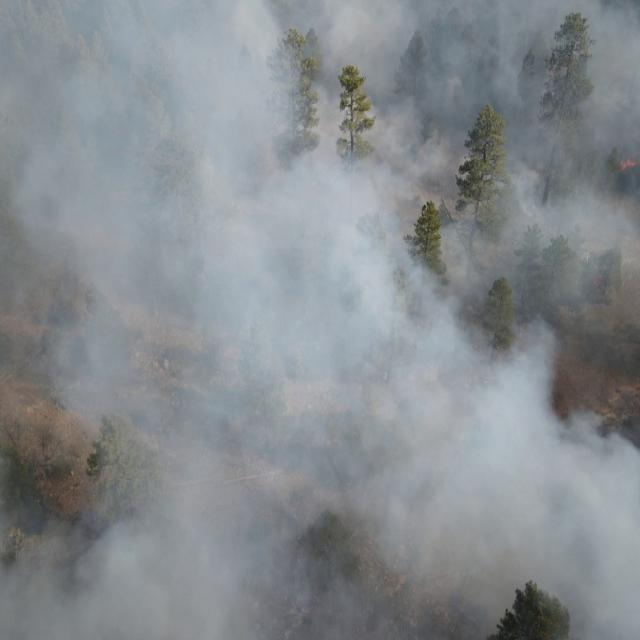fire: (618, 154, 638, 172)
smoke: (0, 0, 640, 640)
